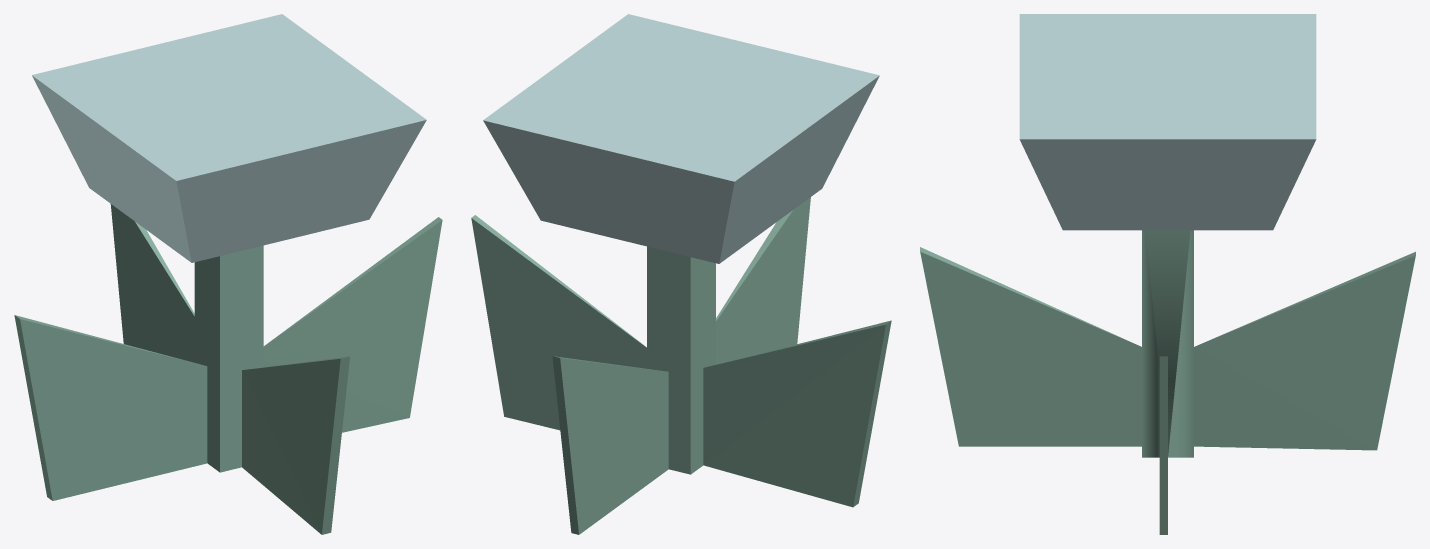
Rendered from Nature Flower 4.fbx.
The picture shows the model from 3 angles, left to right: view 1: azimuth 30°, elevation 25°; view 2: azimuth 150°, elevation 25°; view 3: azimuth 270°, elevation 25°; orthographic projection. The views are drawn at different scales.
Parts seen in each view (by area): view 1: Nature Flower 4; view 2: Nature Flower 4; view 3: Nature Flower 4.
Part boxes in pixels (x1,y1,x2,y2): Nature Flower 4: [14, 14, 442, 534]; Nature Flower 4: [471, 14, 891, 534]; Nature Flower 4: [920, 14, 1415, 534].
Bounding box in the file's own units: 48.6 × 40 × 48.59.
